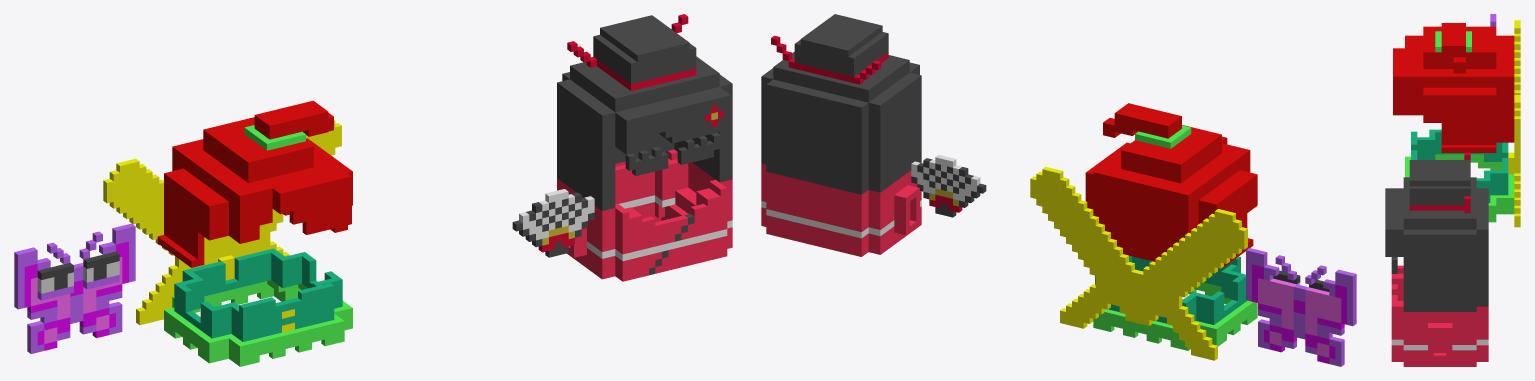
The model's file is 80- sus fairy + geisha.fbx.
3 renders of one model, left to right at view 1: azimuth 30°, elevation 25°; view 2: azimuth 150°, elevation 25°; view 3: azimuth 270°, elevation 25°, orthographic. The views are drawn at different scales.
Visible parts, largest first — view 1: 302, 308, 307, 303, 307.1, 305, 305.1, 304, 301, 304.1, 302.1, 303.1; view 2: 302, 308, 307.1, 303, 307, 305.1, 305, 304, 304.1, 302.1, 303.1; view 3: 302, 308, 303, 307, 307.1, 302.1, 303.1.
Boxes of the visible parts, x1,y1,x2,y2 form: 302: (557,15,732,210); 308: (157,100,352,267); 307: (164,248,352,366); 303: (557,149,732,281); 307.1: (103,119,341,332); 305: (14,223,135,353); 305.1: (24,241,128,350); 304: (519,189,594,252); 301: (625,132,720,175); 304.1: (512,192,594,257); 302.1: (567,14,724,126); 303.1: (587,195,732,260); 302: (761,14,921,194); 308: (1085,103,1257,268); 307.1: (1030,166,1247,360); 303: (761,163,921,256); 307: (1093,255,1257,350); 305.1: (1252,264,1346,363); 305: (1246,248,1356,366); 304: (911,154,980,212); 304.1: (911,158,986,217); 302.1: (771,35,888,84); 303.1: (761,200,921,238); 302: (1385,160,1488,311); 308: (1393,23,1514,152); 303: (1391,265,1488,366); 307: (1405,129,1514,222); 307.1: (1508,20,1520,227); 302.1: (1409,152,1470,213); 303.1: (1391,339,1488,350).
Bounding box in the file's own units: 1033 × 310 × 222.
Materials: 12 (12 with a texture image).
